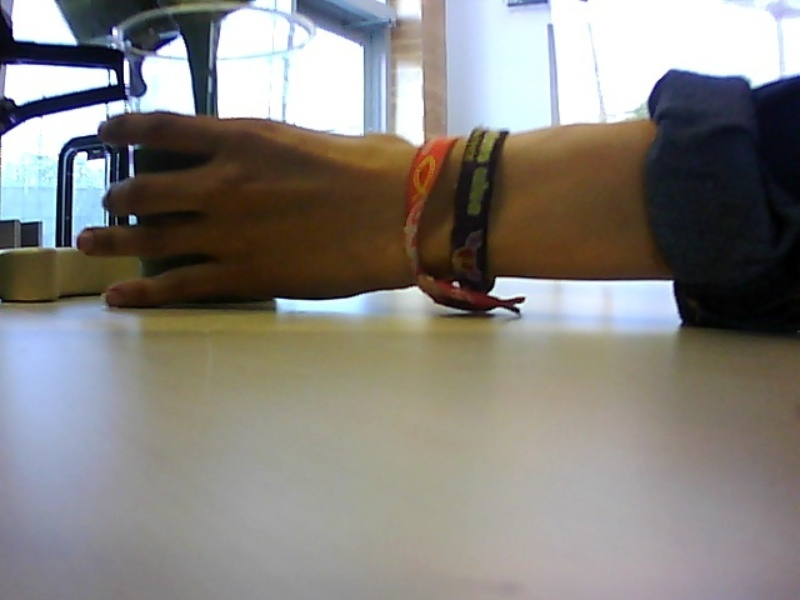cup: (107, 4, 319, 317)
